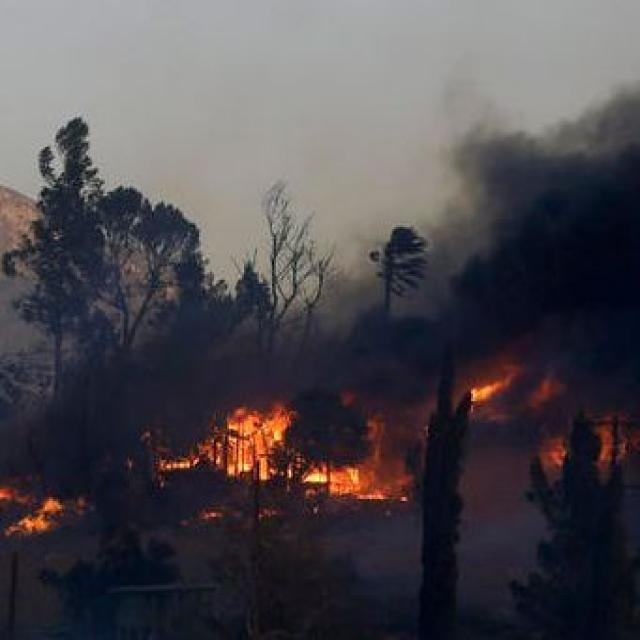Fire: (306, 417, 411, 507), (196, 408, 290, 484), (536, 412, 640, 480), (0, 472, 69, 548), (461, 376, 524, 396)
Smoke: (386, 142, 628, 326)
